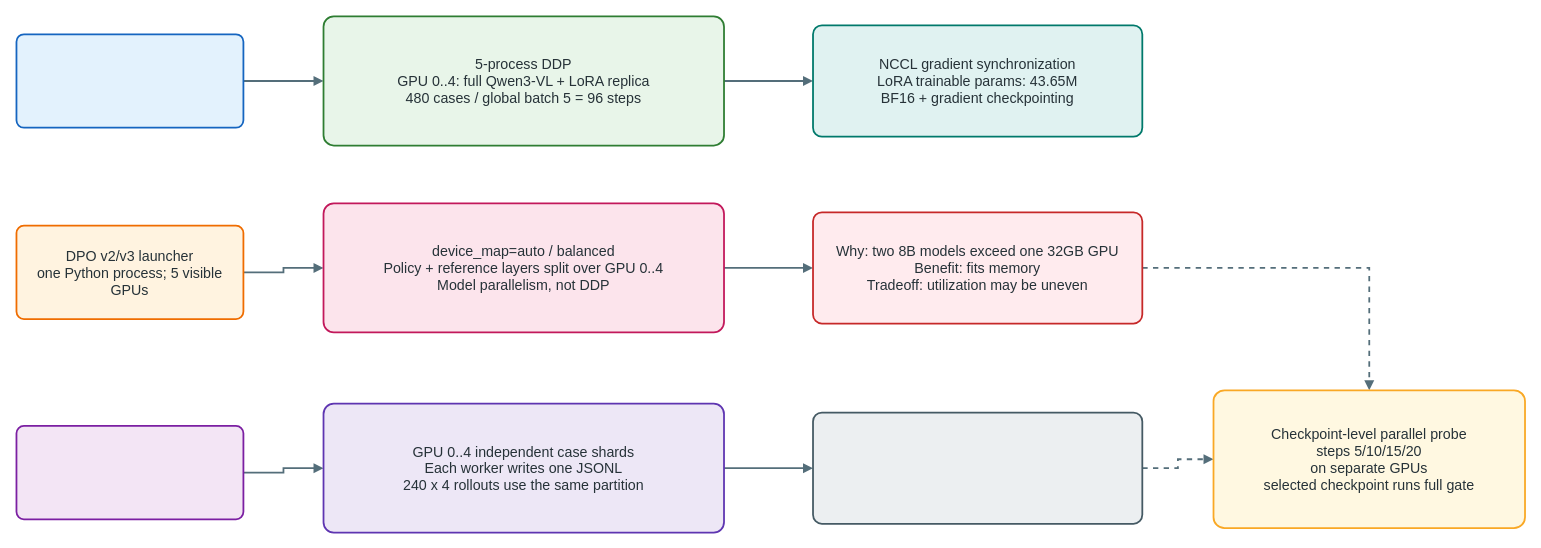
The diagram is 1541 pixels wide and 548 high, and some of its shapes have lost their labels. The centre of each missing label's shape, as x and y in pixels:
"Deterministic shard merge case-id completeness + disjointness checks" belongs at point 977,467.
"Inference / model mining num_shards=5" belongs at point 129,472.
"SFT v3 launcher torchrun --nproc_per_node=5" belongs at point 129,80.
